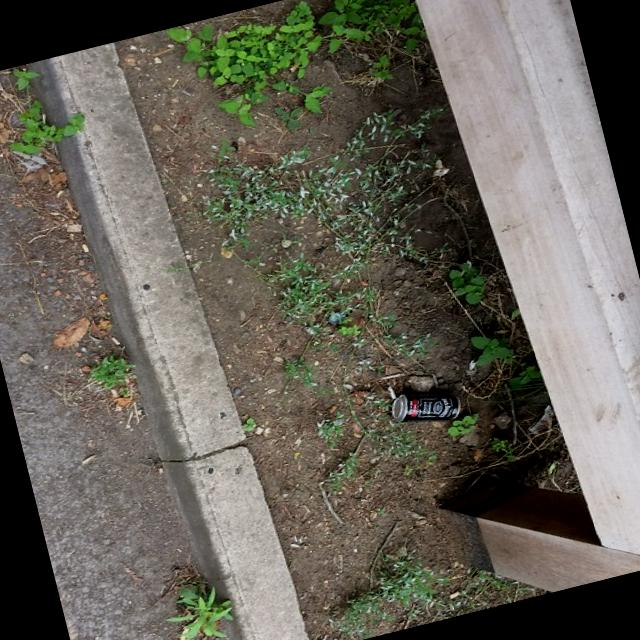Recycle: (383, 379, 468, 436)
